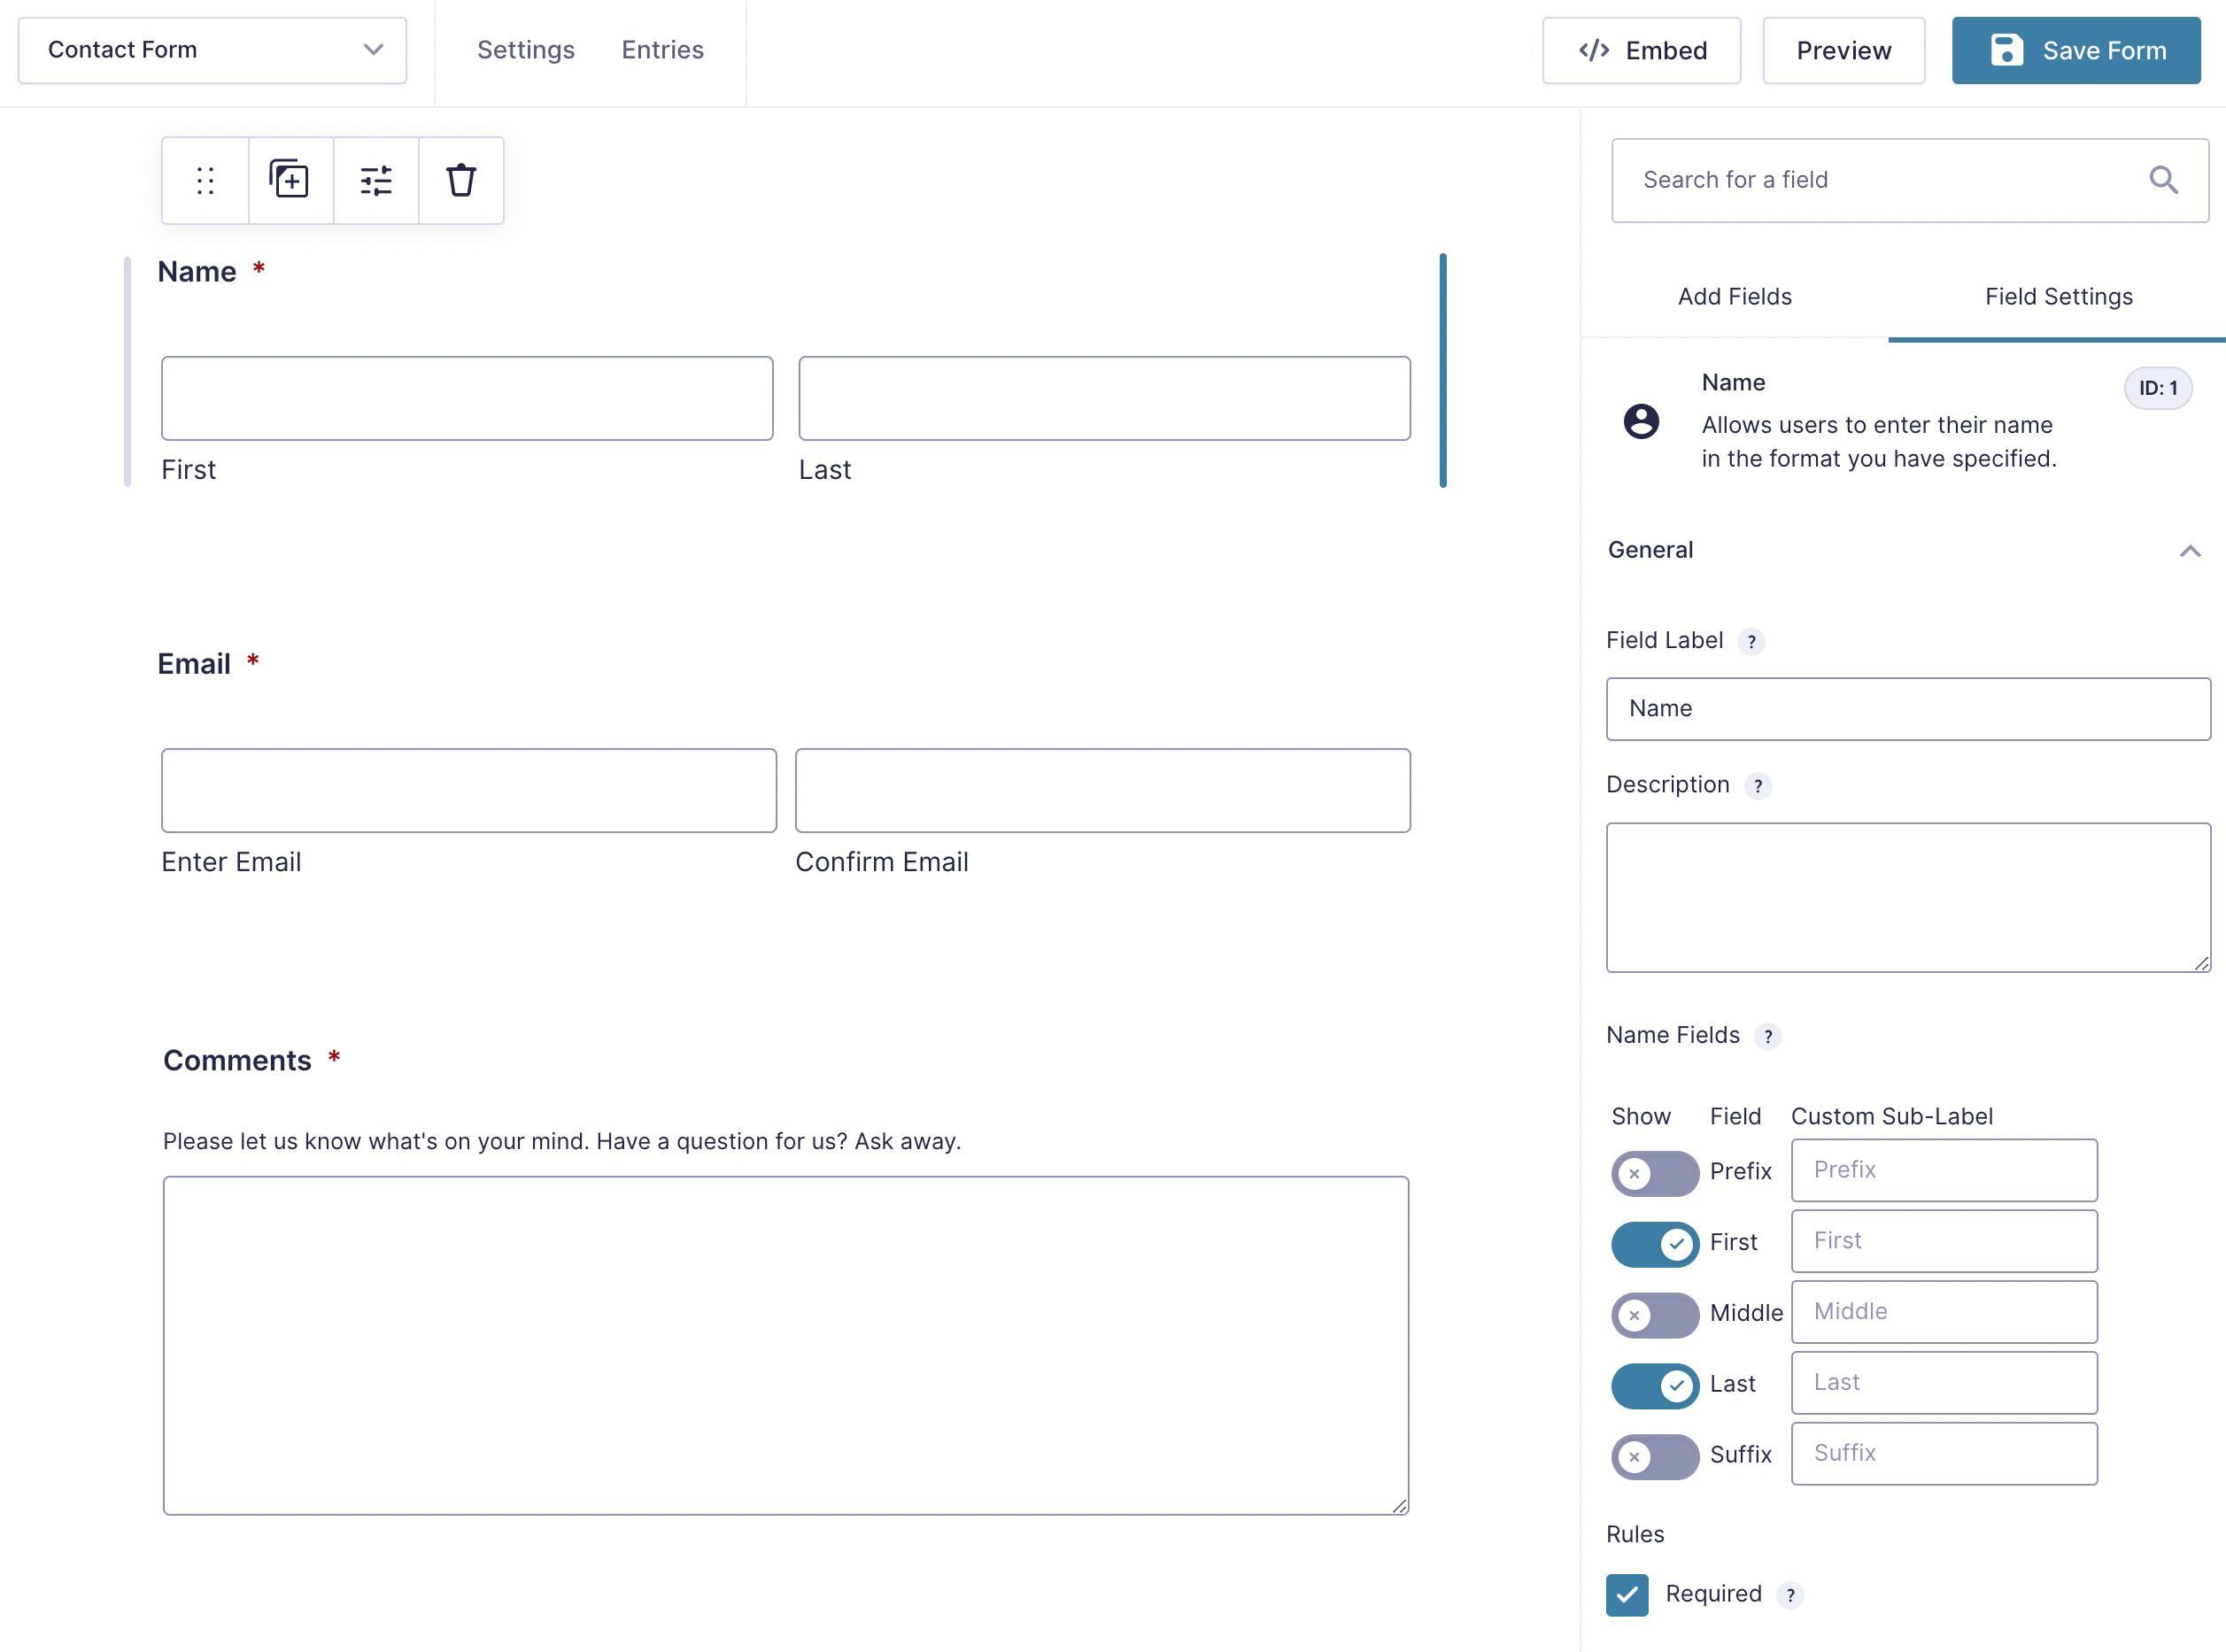button: (1888, 238, 2226, 340), (1955, 19, 2203, 85), (1544, 17, 1738, 83), (1766, 23, 1928, 80)
checkbox: (1600, 1567, 1660, 1624)
dropdown: (17, 16, 404, 85)
icon: (260, 149, 323, 205), (347, 163, 408, 212), (437, 151, 488, 208), (182, 156, 234, 205), (1626, 399, 1662, 441), (2172, 538, 2207, 567)
input: (158, 748, 776, 838), (800, 356, 1414, 444), (800, 748, 1414, 836), (167, 357, 776, 444), (1612, 139, 2214, 226), (1610, 677, 2212, 743), (1801, 1204, 2105, 1270), (1794, 1138, 2105, 1201), (1796, 1347, 2099, 1407), (1794, 1281, 2105, 1338), (1794, 1425, 2094, 1482)
label: (158, 1032, 347, 1083), (798, 836, 982, 887), (1601, 1013, 1787, 1062), (158, 836, 318, 887), (1789, 1097, 2002, 1133), (1660, 1572, 1808, 1619), (1600, 770, 1768, 805), (154, 248, 278, 292), (154, 637, 271, 682), (1601, 625, 1778, 654), (1666, 283, 1796, 316), (470, 36, 583, 68), (619, 35, 718, 69), (154, 446, 229, 491), (1712, 1291, 1787, 1336), (796, 456, 861, 493), (1706, 1371, 1771, 1404), (1707, 1154, 1777, 1185), (1706, 1439, 1778, 1468), (1610, 1517, 1673, 1550), (1714, 1225, 1770, 1256), (1707, 1107, 1768, 1133), (1612, 1111, 1671, 1130)
switch: (1608, 1428, 1704, 1487), (1608, 1360, 1706, 1413), (1610, 1291, 1704, 1341), (1610, 1154, 1699, 1199), (1612, 1225, 1700, 1270)
